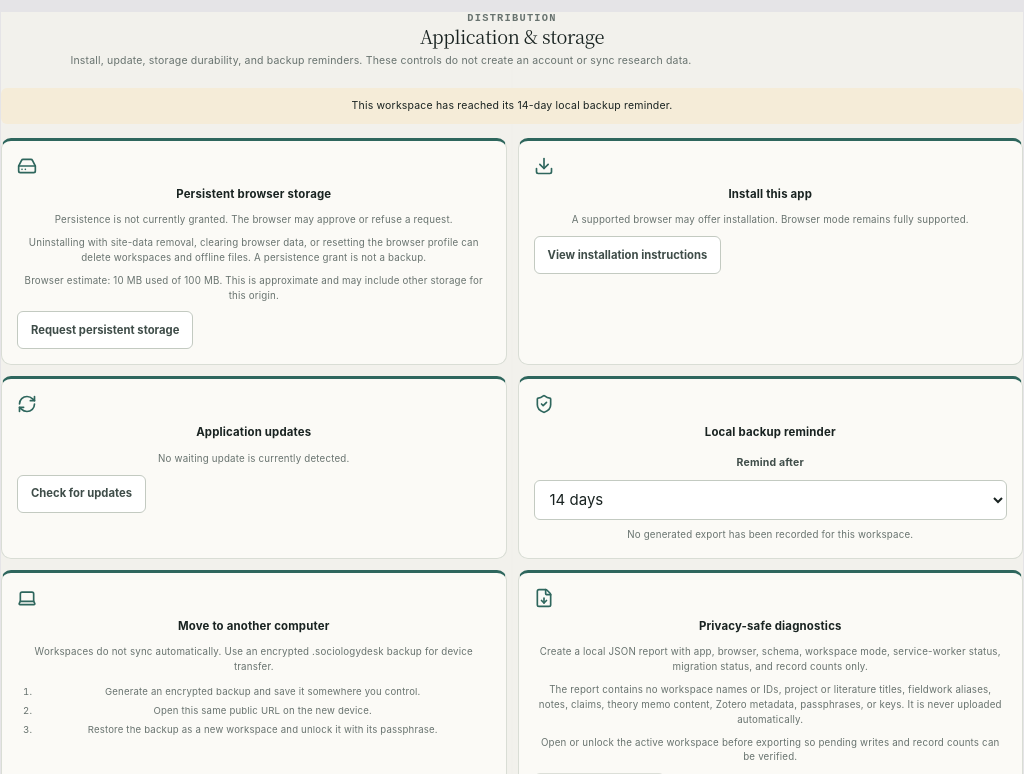
Test: DistributionCenter › reports a persistence grant after an explicit browser-approved request
Step 1. Click the button "Request persistent storage" → point(105, 330), box [17, 311, 193, 349]
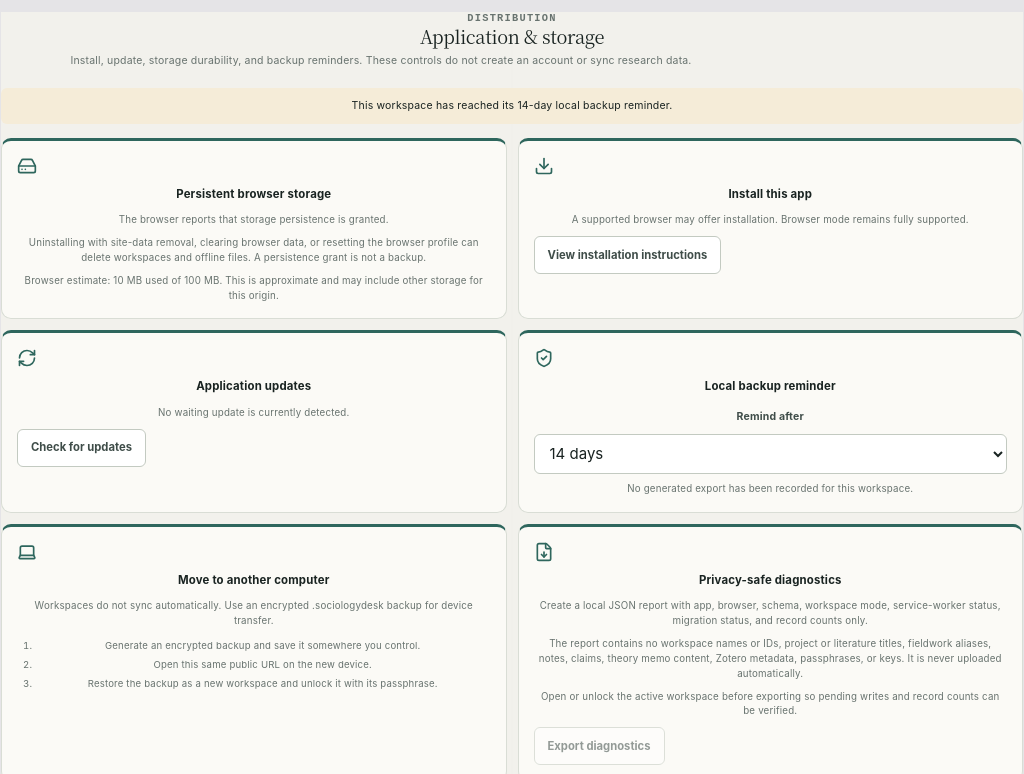
Result: the text "The browser reports that storage persistence is granted." is shown at [119, 214, 389, 225]
Result: the button "Request persistent storage" is gone
